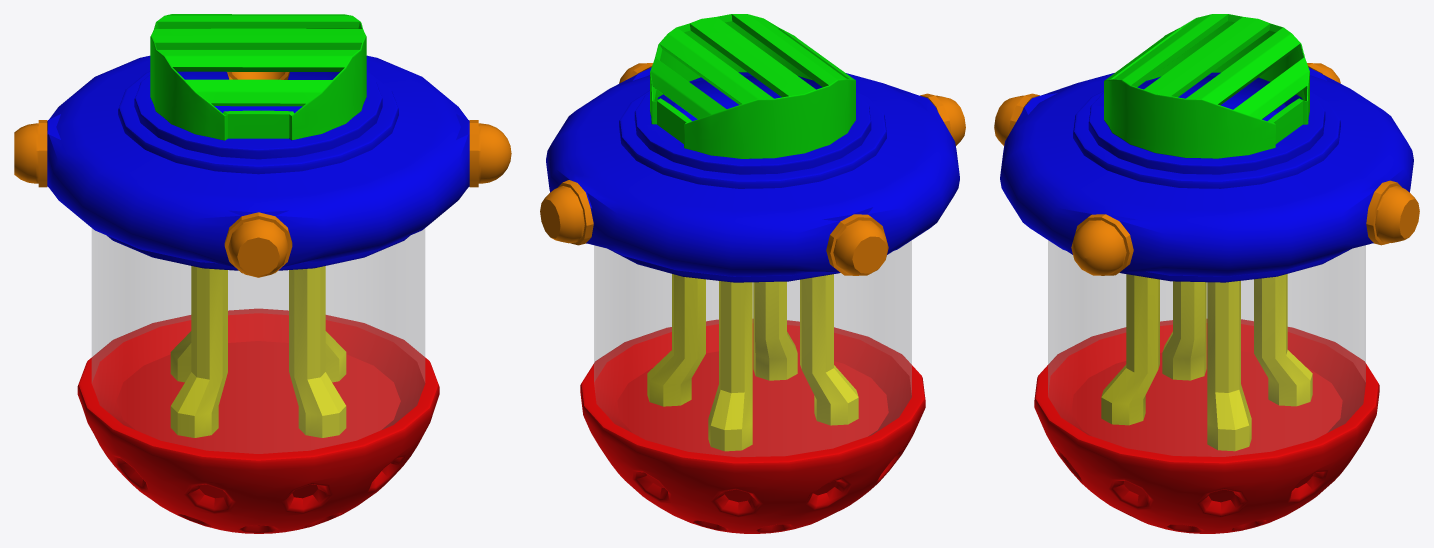
Rendered from ModuleA.fbx.
The picture shows the model from 3 angles, left to right: view 1: azimuth 30°, elevation 25°; view 2: azimuth 150°, elevation 25°; view 3: azimuth 270°, elevation 25°; orthographic projection. The views are drawn at different scales.
Visible parts, largest first — view 1: polySurface626, polySurface640, polySurface648, polySurface635, polySurface642, polySurface630; view 2: polySurface626, polySurface640, polySurface648, polySurface635, polySurface642, polySurface630; view 3: polySurface626, polySurface640, polySurface648, polySurface635, polySurface642, polySurface630.
Boxes of the visible parts, bbox=[...] form: polySurface626: bbox=[92, 228, 424, 453]; polySurface640: bbox=[47, 55, 469, 270]; polySurface648: bbox=[77, 308, 439, 533]; polySurface635: bbox=[150, 14, 366, 140]; polySurface642: bbox=[170, 266, 346, 437]; polySurface630: bbox=[14, 72, 511, 277]; polySurface626: bbox=[594, 240, 911, 456]; polySurface640: bbox=[546, 67, 959, 282]; polySurface648: bbox=[580, 319, 925, 533]; polySurface635: bbox=[650, 14, 855, 158]; polySurface642: bbox=[647, 274, 858, 451]; polySurface630: bbox=[540, 63, 965, 275]; polySurface626: bbox=[1048, 240, 1365, 456]; polySurface640: bbox=[1000, 67, 1413, 282]; polySurface648: bbox=[1034, 319, 1379, 533]; polySurface635: bbox=[1104, 14, 1309, 158]; polySurface642: bbox=[1101, 274, 1312, 451]; polySurface630: bbox=[994, 63, 1419, 275].
Size of the model in its own units: 326 by 388 by 325.
